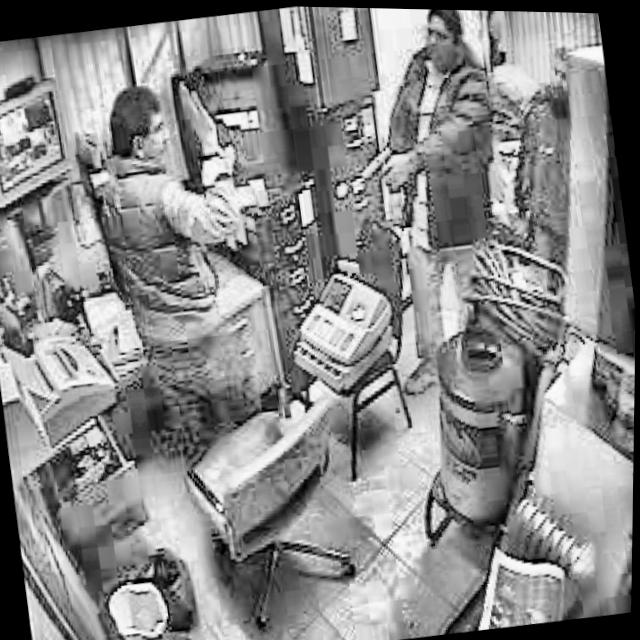robbery: (330, 6, 517, 267), (77, 66, 253, 263)
